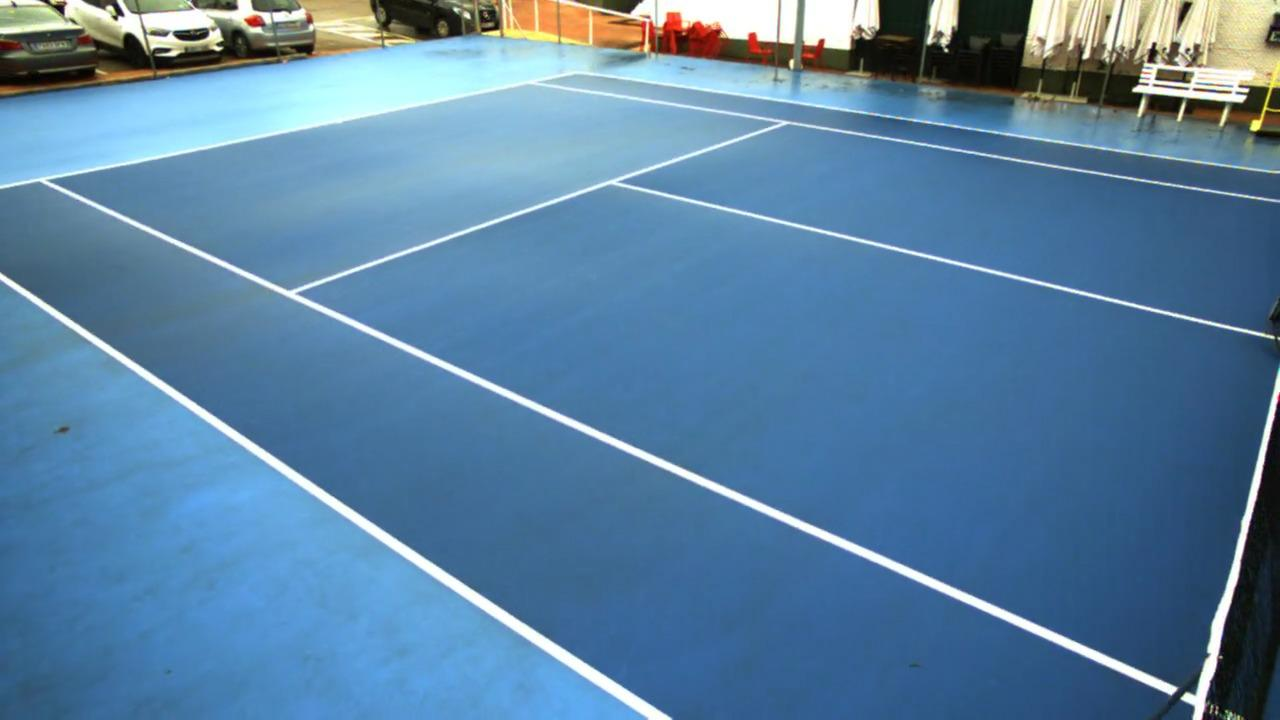cancha_tenis: (36, 80, 1280, 720)
point_f1: (27, 166, 60, 193)
point_f2: (519, 70, 547, 91)
point_fc1: (328, 108, 353, 129)
point_i1: (269, 279, 313, 309)
point_i2: (767, 114, 797, 134)
point_ic1: (600, 171, 636, 193)
